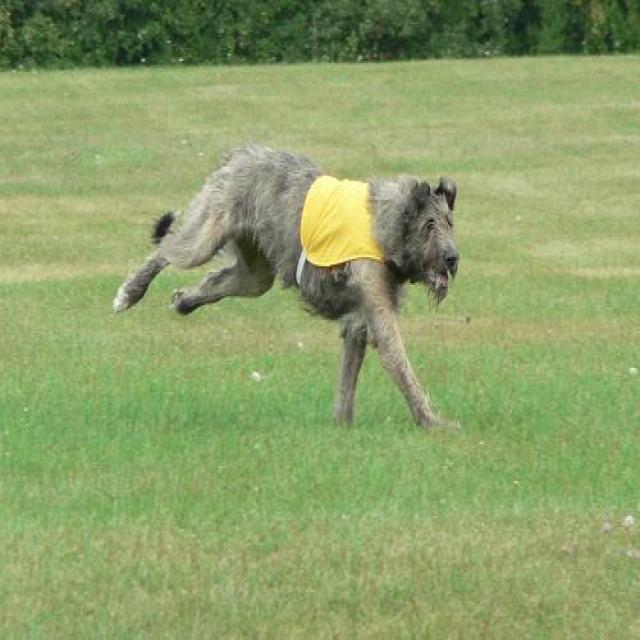irish_wolfhound: (108, 137, 464, 433)
